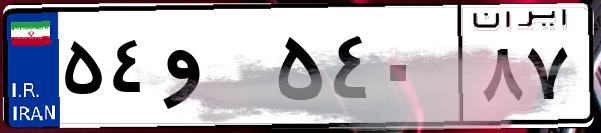0: (385, 28, 445, 110)
4: (330, 28, 385, 110), (110, 28, 158, 98)
5: (270, 28, 330, 110), (57, 26, 110, 100)
7: (525, 38, 570, 115)
8: (475, 38, 525, 113)
و: (158, 20, 270, 120)
